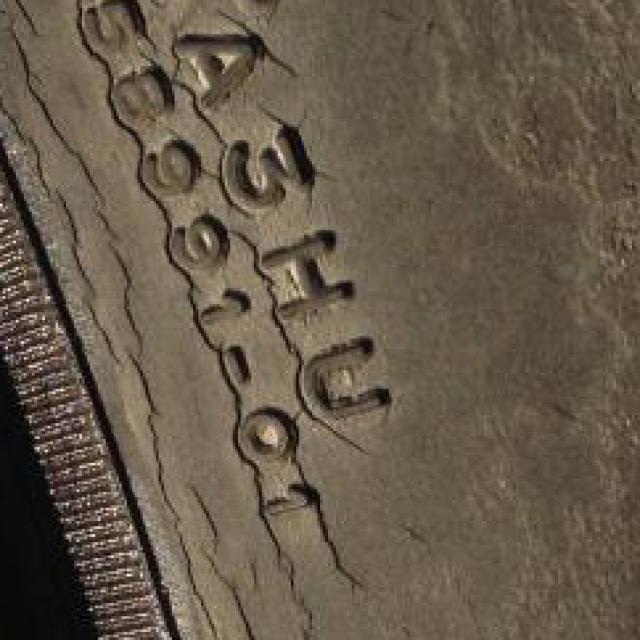Cracks: (0, 0, 513, 637)
